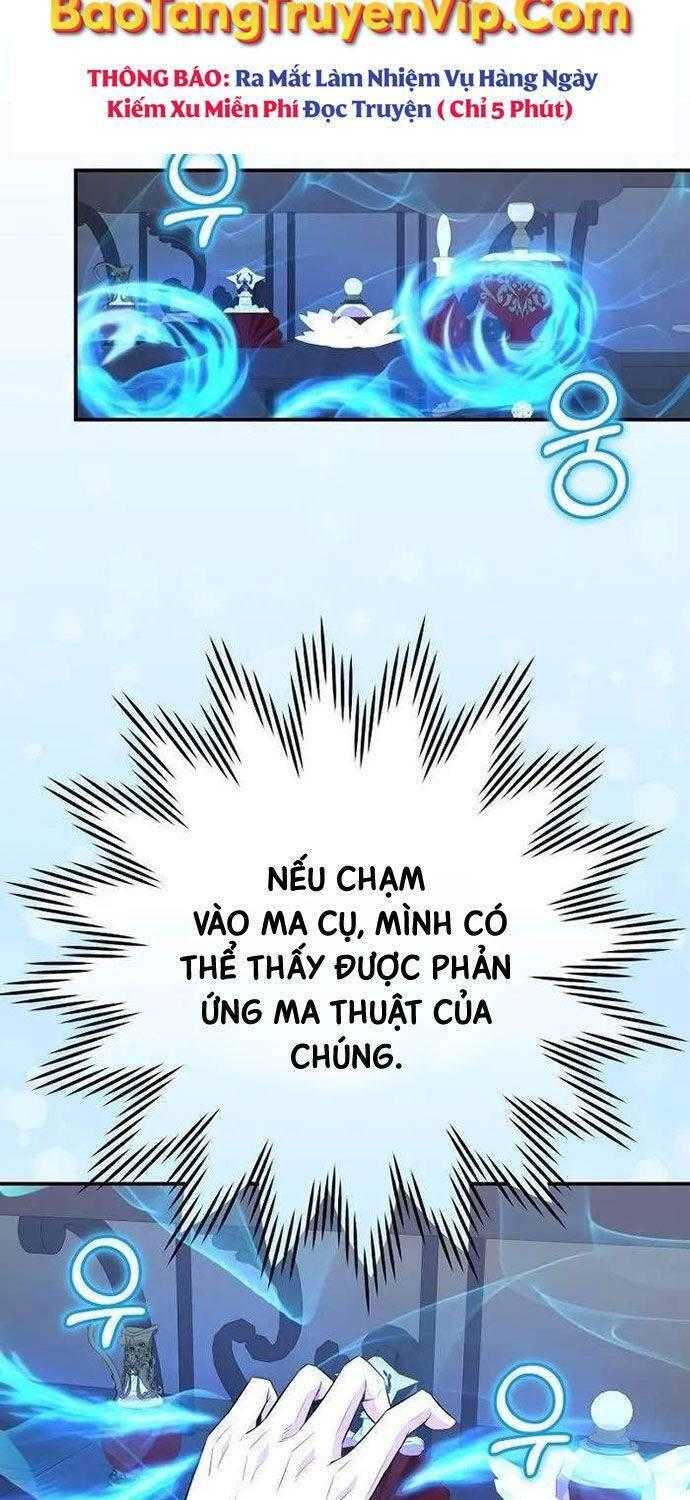quangcao: (50, 2, 634, 120)
